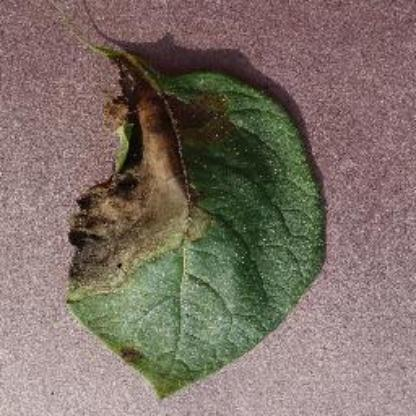Late-Blight: (63, 32, 330, 392)
